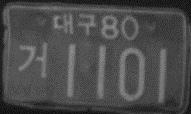0: (118, 45, 146, 101), (120, 15, 139, 42)
1: (156, 47, 169, 105), (66, 42, 77, 99), (96, 42, 107, 99)
8: (100, 14, 119, 40)
거: (17, 40, 49, 79)
대구_O: (51, 11, 97, 36)
